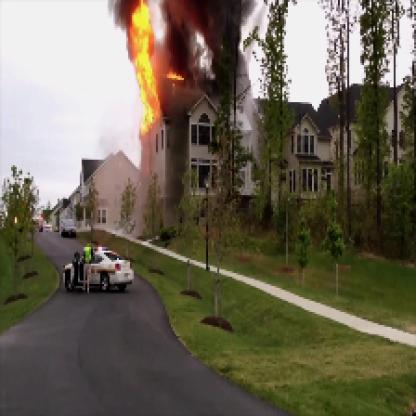Fire: (124, 2, 182, 132)
Smoke: (156, 2, 251, 87)
